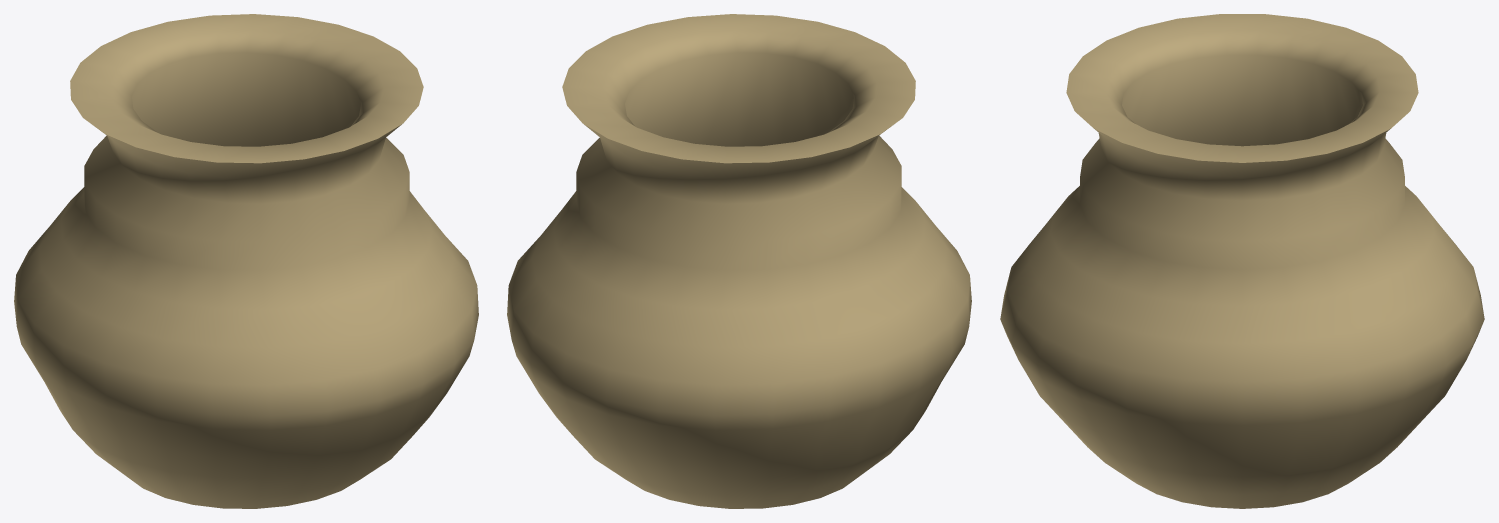
The model's file is claypot.fbx.
3 renders of one model, left to right at view 1: azimuth 30°, elevation 25°; view 2: azimuth 150°, elevation 25°; view 3: azimuth 270°, elevation 25°, orthographic.
Visible parts, largest first — view 1: pCylinder1; view 2: pCylinder1; view 3: pCylinder1.
Part boxes in pixels (left/top/right/bottom): pCylinder1: left=14, top=14, right=478, bottom=508; pCylinder1: left=507, top=14, right=971, bottom=508; pCylinder1: left=1000, top=14, right=1484, bottom=508.
Size of the model in its own units: 10.61 by 9.39 by 11.26.
